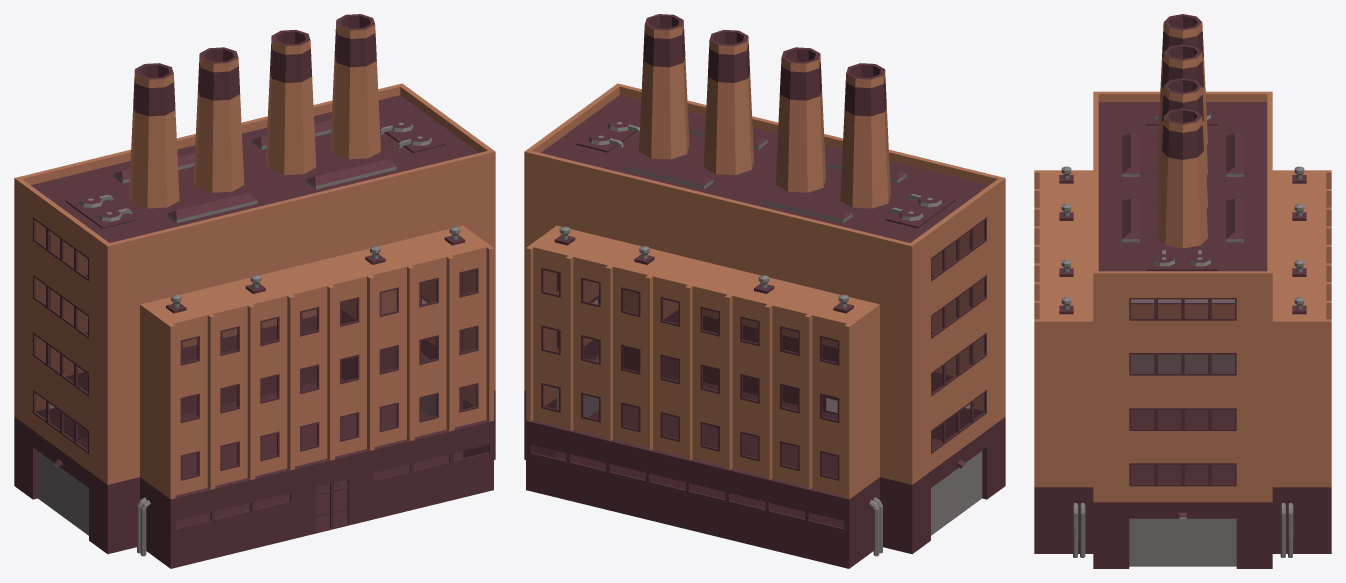
Rendered from industry-factory.fbx.
3 renders of one model, left to right at view 1: azimuth 30°, elevation 25°; view 2: azimuth 150°, elevation 25°; view 3: azimuth 270°, elevation 25°, orthographic. The views are drawn at different scales.
Visible parts, largest first — view 1: industry-factory; view 2: industry-factory; view 3: industry-factory.
Part boxes in pixels (left/top/right/bottom): industry-factory: left=14, top=14, right=495, bottom=568; industry-factory: left=524, top=14, right=1005, bottom=568; industry-factory: left=1034, top=14, right=1331, bottom=568.
Size of the model in its own units: 24.71 by 25.21 by 16.6.
